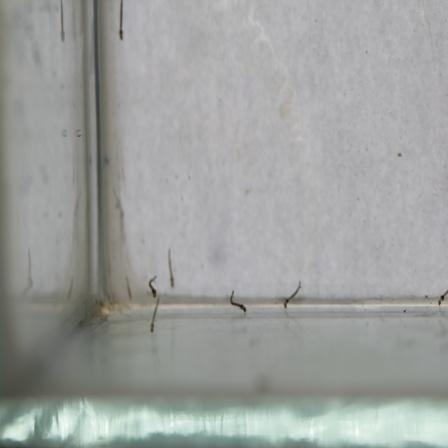Jentik-Nyamuk: (146, 272, 163, 334), (278, 277, 303, 312), (226, 286, 251, 317), (114, 0, 130, 44), (164, 247, 177, 293)
